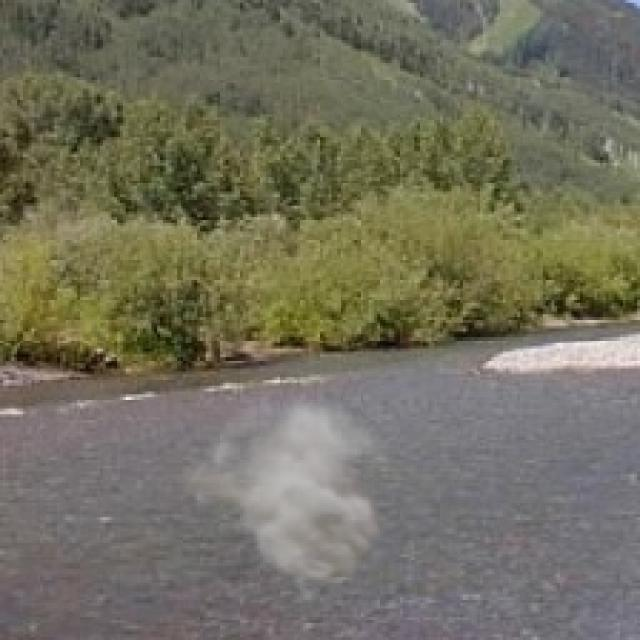smoke: (168, 388, 406, 603)
